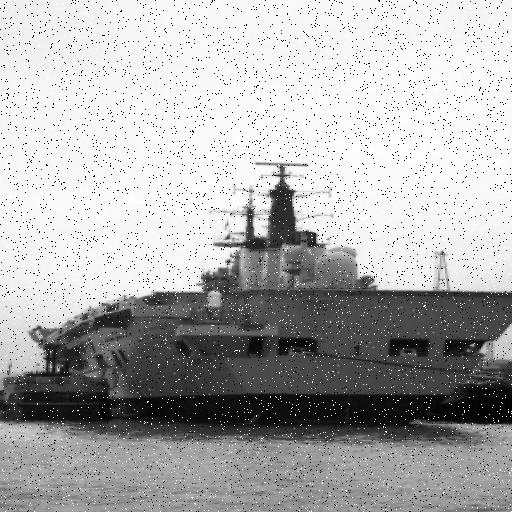Portanaves: (28, 134, 512, 431)
